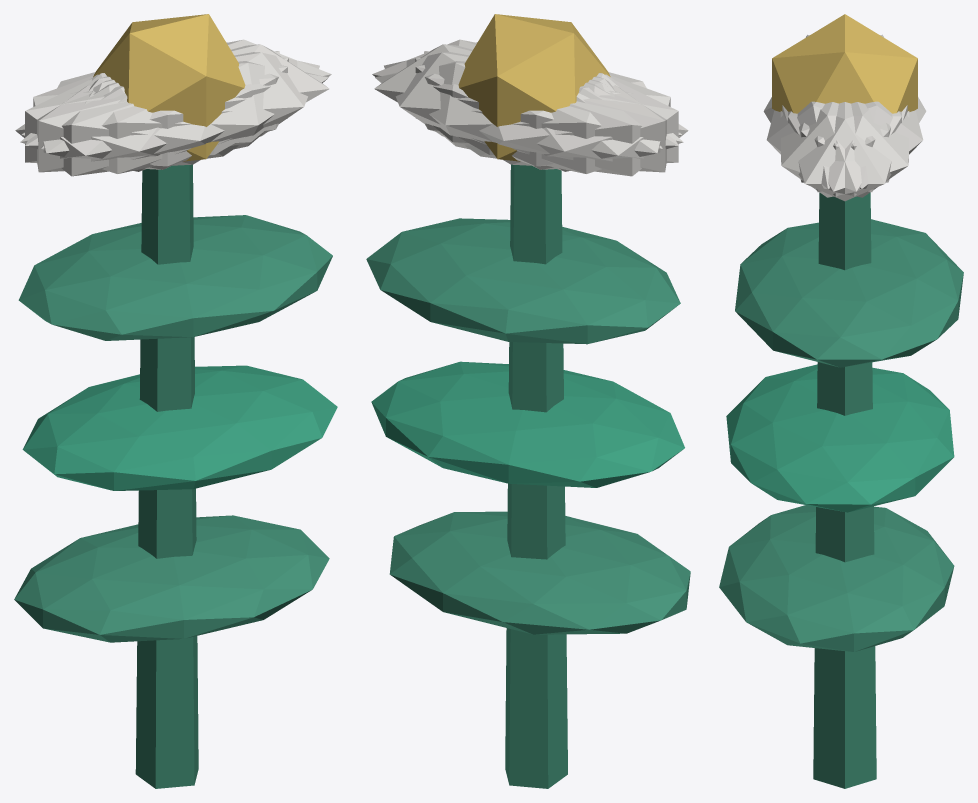
File: agave-angustifolia.glb
3 renders of one model, left to right at view 1: azimuth 30°, elevation 25°; view 2: azimuth 150°, elevation 25°; view 3: azimuth 270°, elevation 25°, orthographic.
Visible parts, largest first — view 1: leaf0, leaf1, leaf2, stem, center, petal1, petal6, petal2, petal5, petal7, petal0, petal4 (+2 smaller); view 2: leaf2, leaf1, leaf0, stem, center, petal8, petal3, petal7, petal4, petal2, petal0, petal5 (+2 smaller); view 3: leaf2, leaf1, leaf0, stem, center, petal0, petal5, petal4, petal1, petal8.
Boxes of the visible parts, <box> form: leaf0: <box>14,515,329,642</box>; leaf1: <box>22,365,337,490</box>; leaf2: <box>18,215,332,340</box>; stem: <box>135,164,198,788</box>; center: <box>93,14,245,161</box>; petal1: <box>20,61,328,173</box>; petal6: <box>15,74,238,176</box>; petal2: <box>37,51,279,172</box>; petal5: <box>41,52,319,166</box>; petal7: <box>25,57,288,169</box>; petal0: <box>93,44,329,155</box>; petal4: <box>21,39,331,146</box>; leaf2: <box>366,218,680,344</box>; leaf1: <box>371,361,684,487</box>; leaf0: <box>389,511,690,634</box>; stem: <box>505,164,567,788</box>; center: <box>458,14,610,161</box>; petal8: <box>375,61,683,173</box>; petal3: <box>465,74,688,176</box>; petal7: <box>424,51,666,172</box>; petal4: <box>384,52,662,166</box>; petal2: <box>415,57,678,169</box>; petal0: <box>374,44,610,155</box>; petal5: <box>372,39,682,146</box>; leaf2: <box>735,219,963,367</box>; leaf1: <box>726,364,954,512</box>; leaf0: <box>719,505,954,651</box>; stem: <box>813,192,876,788</box>; center: <box>772,14,917,113</box>; petal0: <box>782,102,907,201</box>; petal5: <box>780,102,901,197</box>; petal4: <box>788,102,909,197</box>; petal1: <box>766,101,890,188</box>; petal8: <box>799,101,923,188</box>.
Size of the model in its own units: 0.1452 by 0.3437 by 0.1028.
